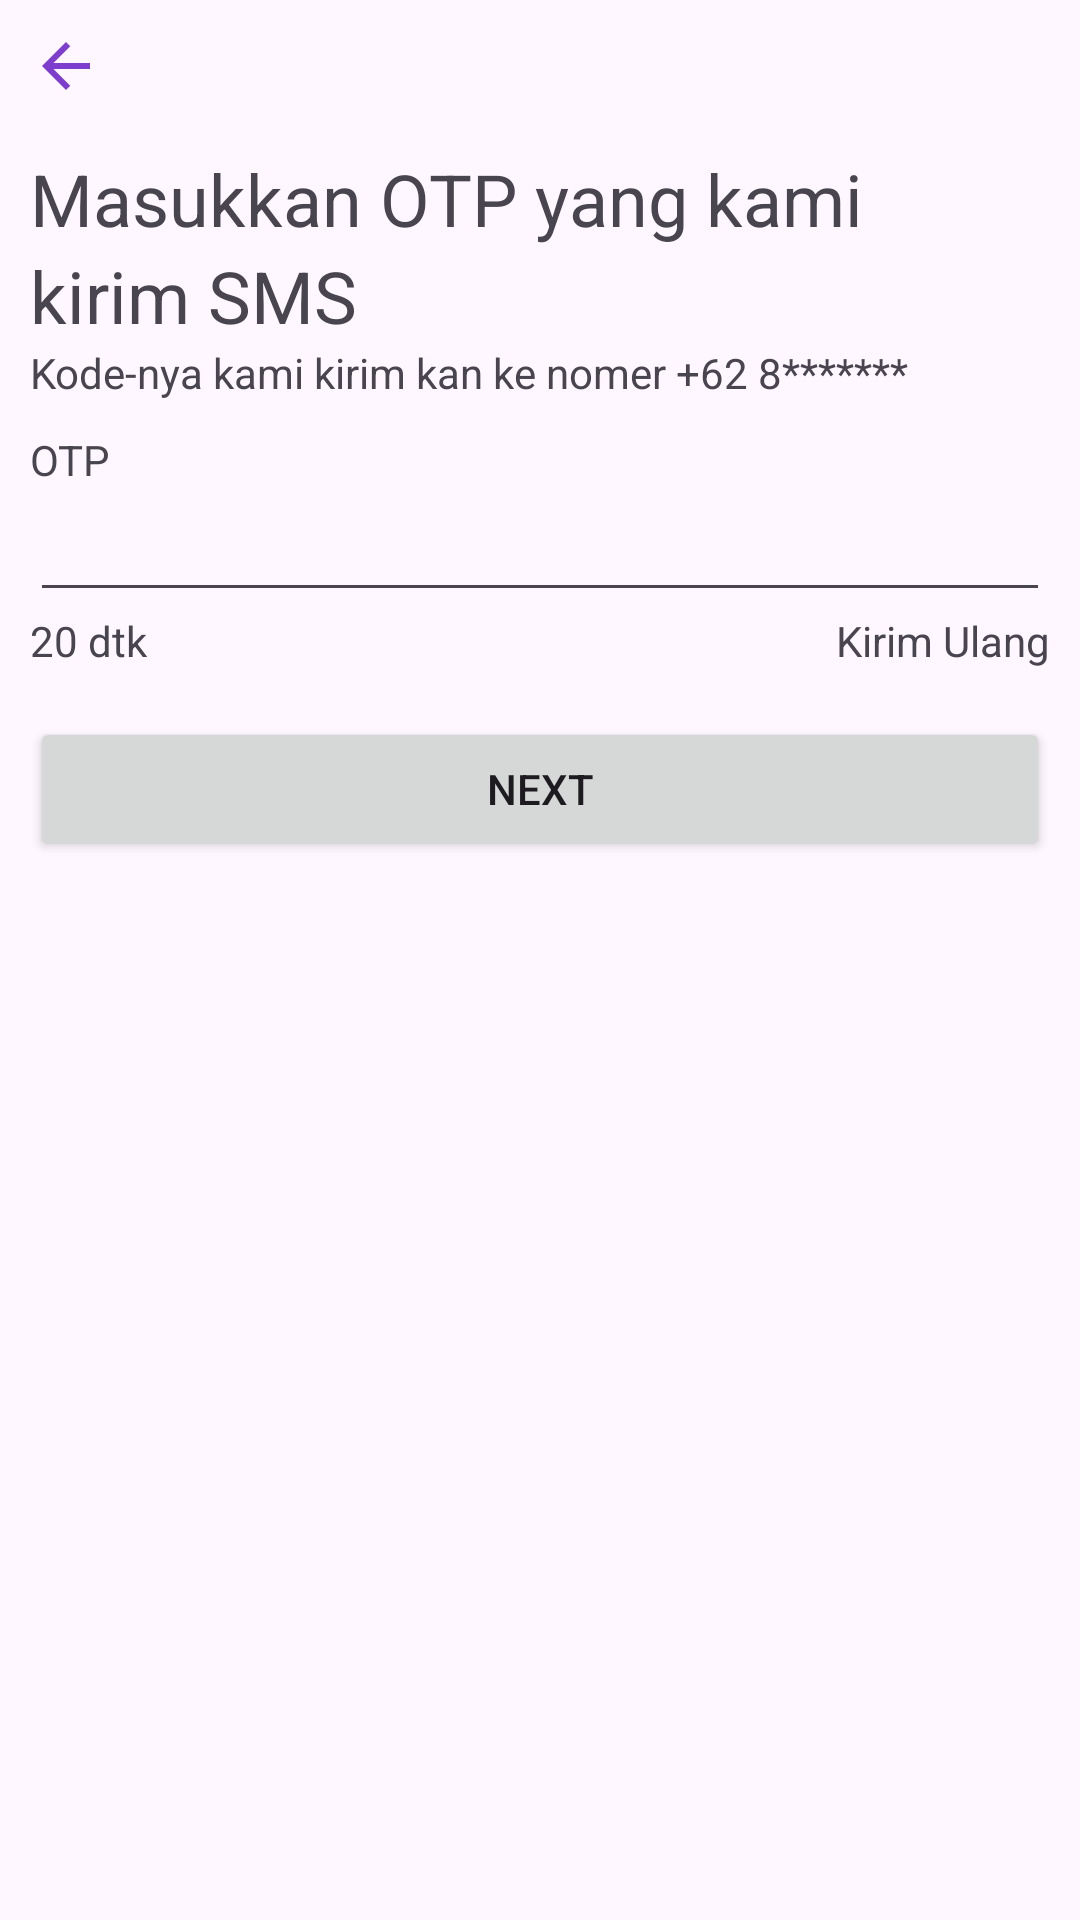

Icons on this 1080 x 1920 Android screen, each with its box as (x1, y1, x2, y2):
back: (42, 42, 90, 90)
